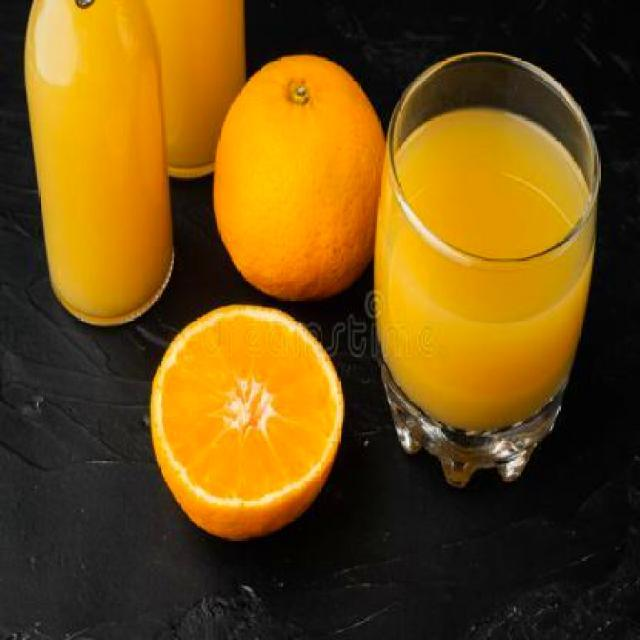Jeruk Sudah Matang: (211, 56, 387, 301)
